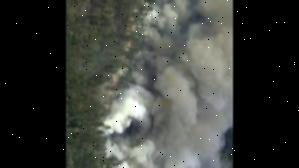fire: (102, 4, 145, 97)
